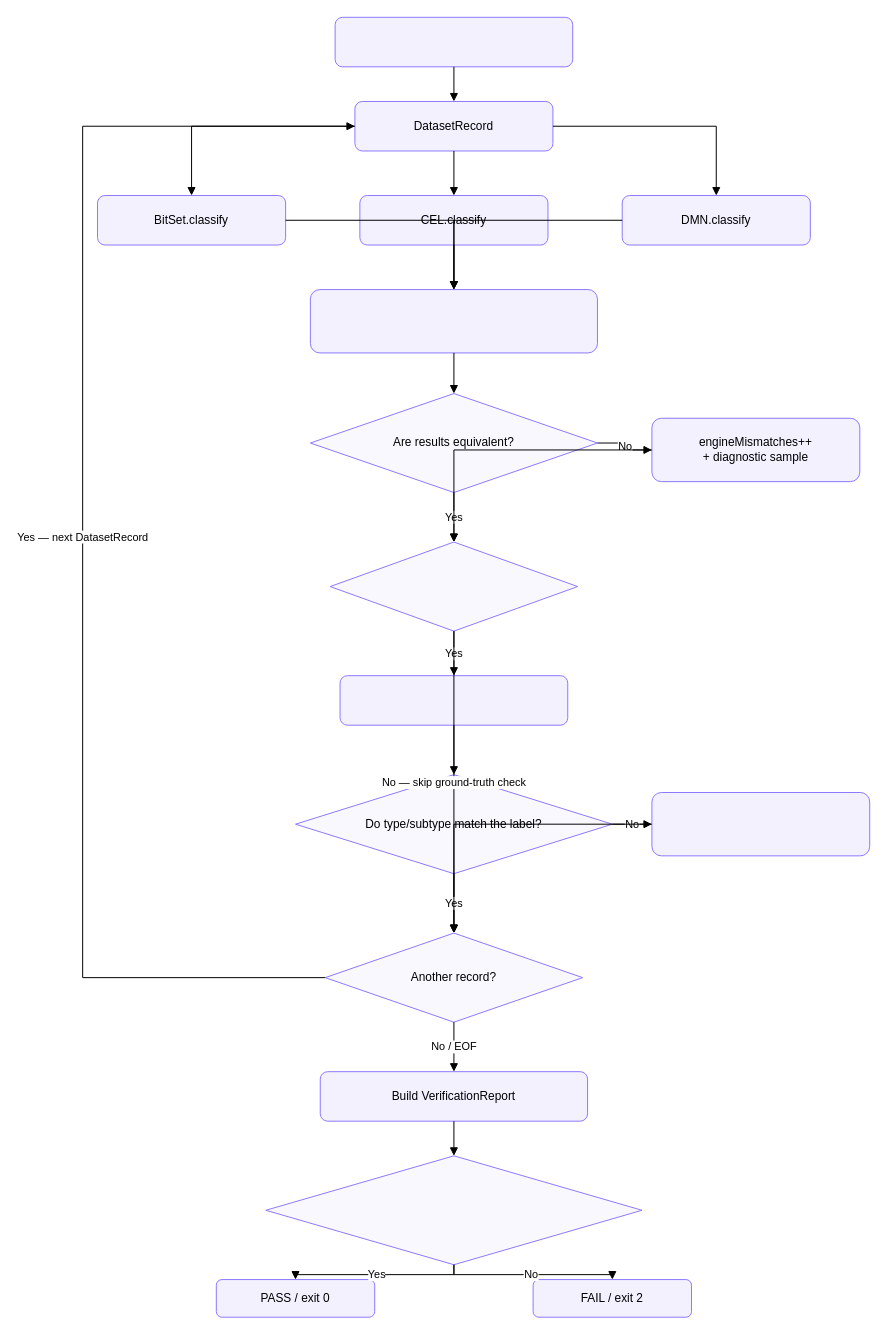
Some shapes in this 887 by 1335 pixel diagram are drawn without their labels. Here are the shapes that lost their labels. From the top down, the box of each, then its label:
(334, 16, 573, 67): DatasetReader.forEach
(309, 289, 597, 353): 3 results + update SHA-256 BitSet / CEL / DMN
(329, 541, 578, 631): expectedType present?
(339, 675, 568, 725): groundTruthChecked++
(651, 792, 870, 856): groundTruthMismatches++ + diagnostic sample
(265, 1155, 642, 1265): checked > 0 AND engineMismatches = 0 AND groundTruthMismatches = 0?
